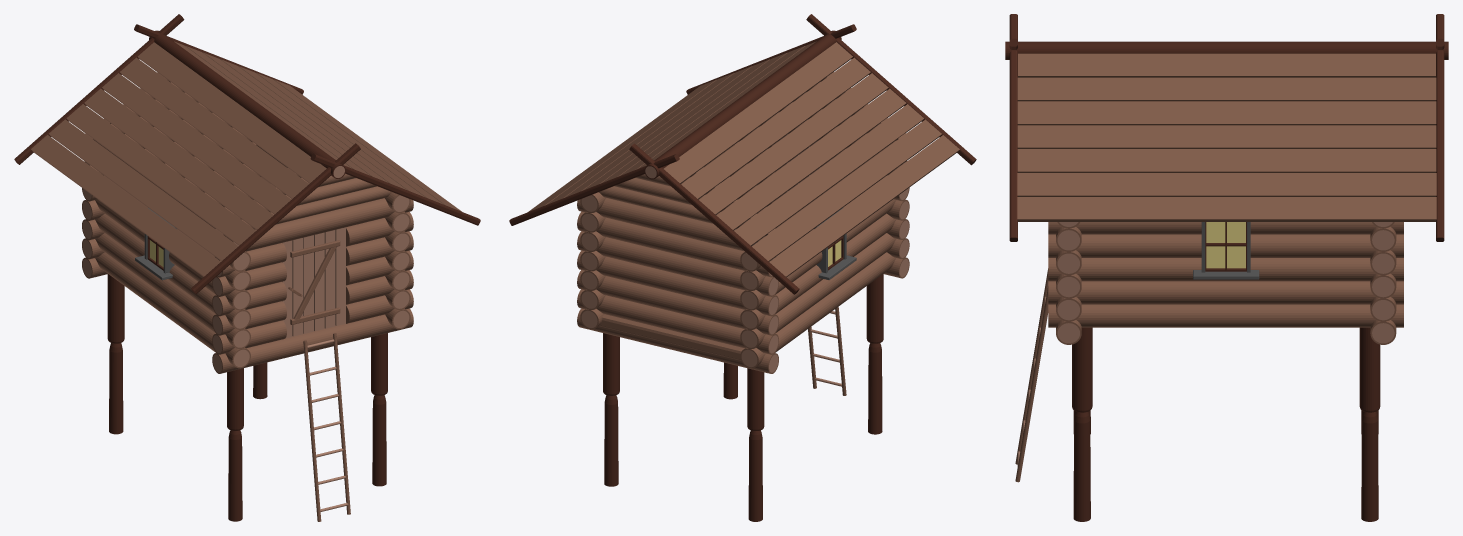
Rendered from Labaz.fbx.
The picture shows the model from 3 angles, left to right: view 1: azimuth 30°, elevation 25°; view 2: azimuth 150°, elevation 25°; view 3: azimuth 270°, elevation 25°; orthographic projection. The views are drawn at different scales.
Visible parts, largest first — view 1: Labaz; view 2: Labaz; view 3: Labaz.
Boxes of the visible parts, x1=… form: Labaz: x1=14, y1=14, x2=480, y2=521; Labaz: x1=509, y1=14, x2=976, y2=521; Labaz: x1=1005, y1=14, x2=1448, y2=521.
Bounding box in the file's own units: 143 × 177 × 158.
